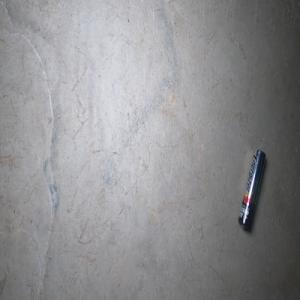Battery: (237, 148, 266, 232)
